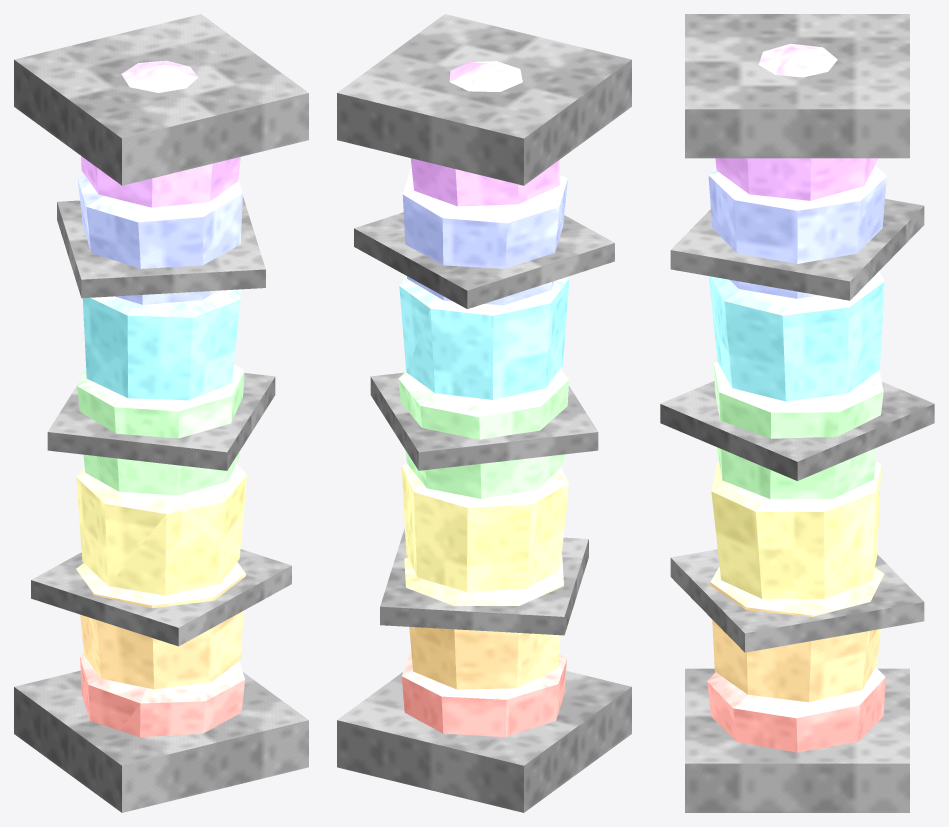
File: architecture-crystal-beam-2m.glb
3 views of the same model, side by side, from view 1: azimuth 30°, elevation 25°; view 2: azimuth 150°, elevation 25°; view 3: azimuth 270°, elevation 25° (orthographic). The views are drawn at different scales.
Parts seen in each view (by area): view 1: top-collar, base-collar, segment-2, segment-4, segment-5, segment-1, segment-3, brace-1, brace-2, brace-3, segment-0, segment-6; view 2: top-collar, base-collar, segment-4, segment-2, segment-3, segment-5, segment-1, brace-3, brace-2, brace-1, segment-0, segment-6; view 3: top-collar, base-collar, segment-4, segment-2, segment-5, segment-1, segment-3, brace-2, brace-3, brace-1, segment-0, segment-6.
Boxes of the visible parts, bbox=[...] form: top-collar: bbox=[14, 14, 308, 185]; base-collar: bbox=[14, 670, 308, 812]; segment-2: bbox=[76, 464, 247, 595]; segment-4: bbox=[82, 289, 240, 400]; segment-5: bbox=[77, 175, 242, 304]; segment-1: bbox=[76, 562, 245, 689]; segment-3: bbox=[77, 364, 244, 495]; brace-1: bbox=[31, 549, 291, 646]; brace-2: bbox=[47, 373, 275, 470]; brace-3: bbox=[57, 197, 265, 298]; segment-0: bbox=[80, 654, 244, 737]; segment-6: bbox=[81, 60, 240, 207]; top-collar: bbox=[337, 14, 631, 185]; base-collar: bbox=[337, 671, 631, 812]; segment-4: bbox=[399, 276, 569, 399]; segment-2: bbox=[401, 463, 568, 591]; segment-3: bbox=[398, 369, 569, 498]; segment-5: bbox=[402, 166, 567, 305]; segment-1: bbox=[404, 556, 563, 689]; brace-3: bbox=[354, 212, 614, 309]; brace-2: bbox=[370, 372, 598, 470]; brace-1: bbox=[380, 528, 588, 635]; segment-0: bbox=[401, 650, 566, 737]; segment-6: bbox=[410, 61, 560, 206]; top-collar: bbox=[685, 14, 909, 158]; base-collar: bbox=[685, 668, 909, 812]; segment-4: bbox=[709, 271, 884, 401]; segment-2: bbox=[711, 461, 881, 599]; segment-5: bbox=[708, 165, 886, 298]; segment-1: bbox=[710, 566, 884, 702]; segment-3: bbox=[714, 361, 883, 499]; brace-2: bbox=[660, 381, 934, 480]; brace-3: bbox=[670, 199, 924, 300]; brace-1: bbox=[670, 549, 924, 652]; segment-0: bbox=[707, 667, 885, 752]; segment-6: bbox=[715, 43, 878, 200].
Size of the model in its own units: 0.7071 by 2.05 by 0.7071.
8 materials, 8 textured.
